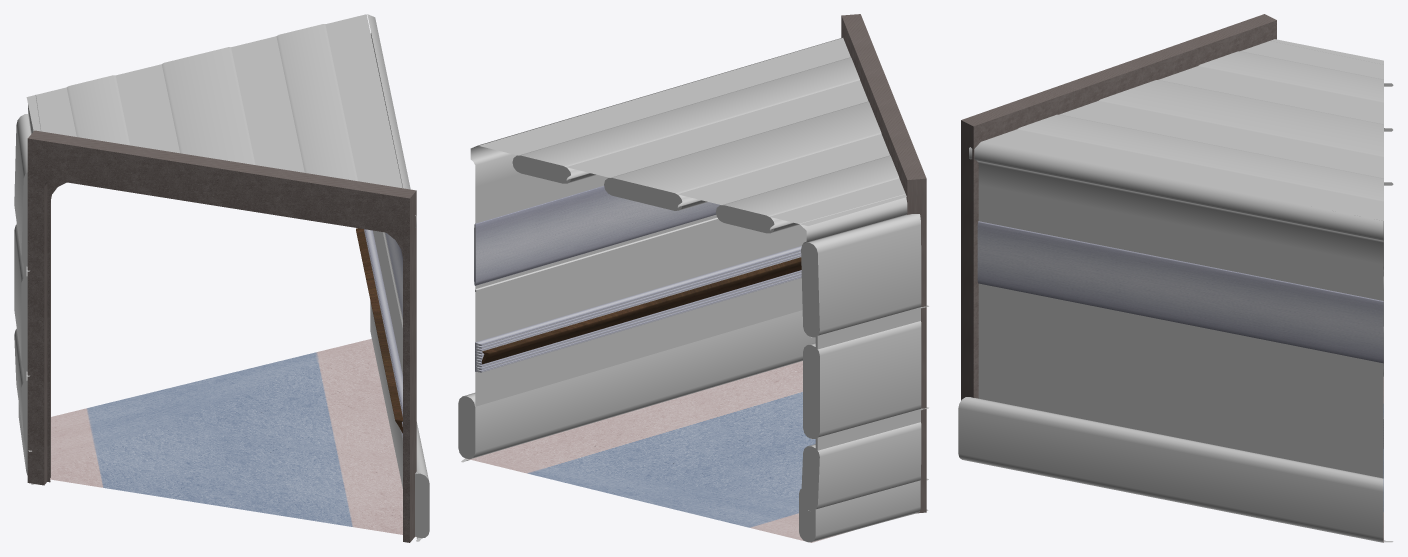
File: GalaxyCorridorRightTurnSharp.fbx
The picture shows the model from 3 angles, left to right: view 1: azimuth 30°, elevation 25°; view 2: azimuth 150°, elevation 25°; view 3: azimuth 270°, elevation 25°; orthographic projection. The views are drawn at different scales.
Parts seen in each view (by area): view 1: Plane44, Plane44.002, Plane44.003; view 2: Plane44, Plane44.002, Plane44.003; view 3: Plane44.
Part boxes in pixels (x1,y1,x2,y2): Plane44: (14,14,429,542); Plane44.002: (50,338,415,536); Plane44.003: (364,229,402,438); Plane44: (458,14,928,542); Plane44.002: (465,361,849,542); Plane44.003: (475,246,801,372); Plane44: (958,14,1393,542).
Bounding box in the file's own units: 328 × 256 × 303.
